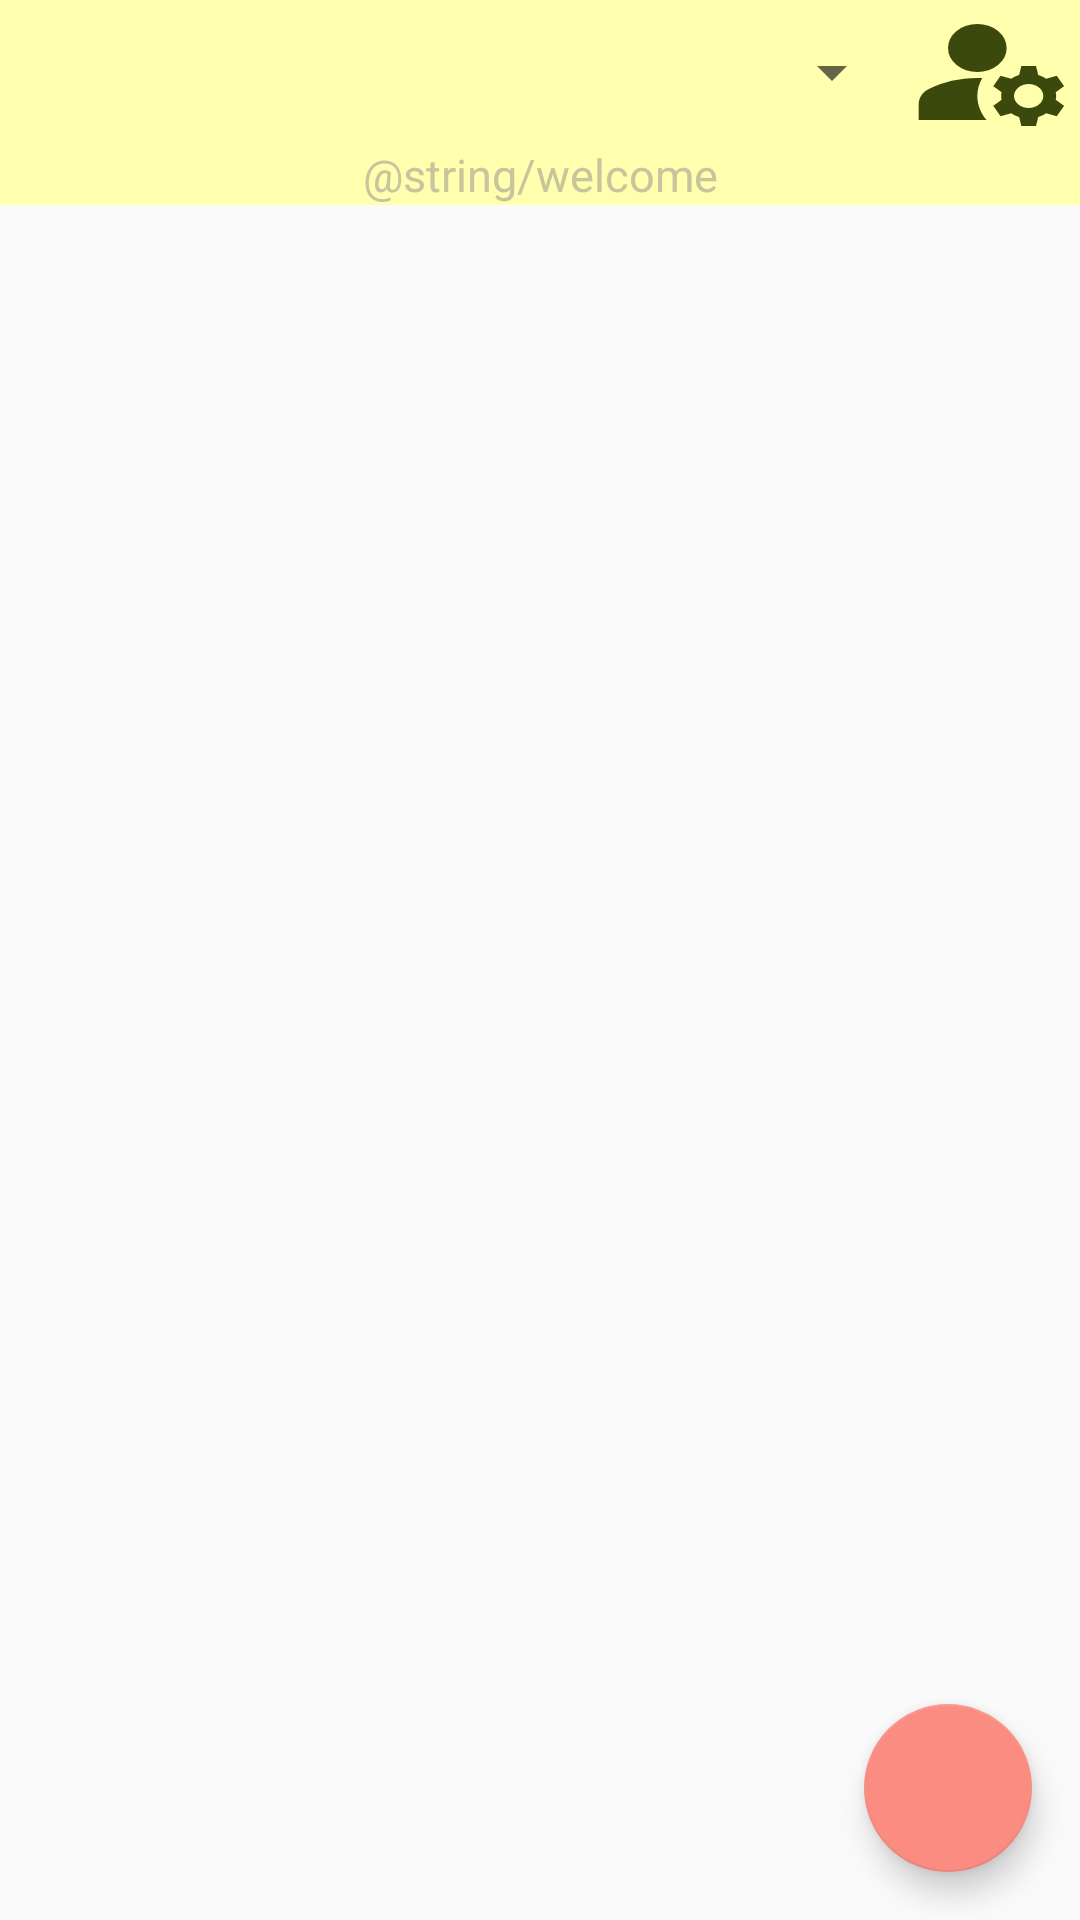

Named icons in this screenshot (1080×1920) and their bounding boxes, detection(x1, y1, x2, y2):
Edit Account: detection(918, 24, 1064, 126)
